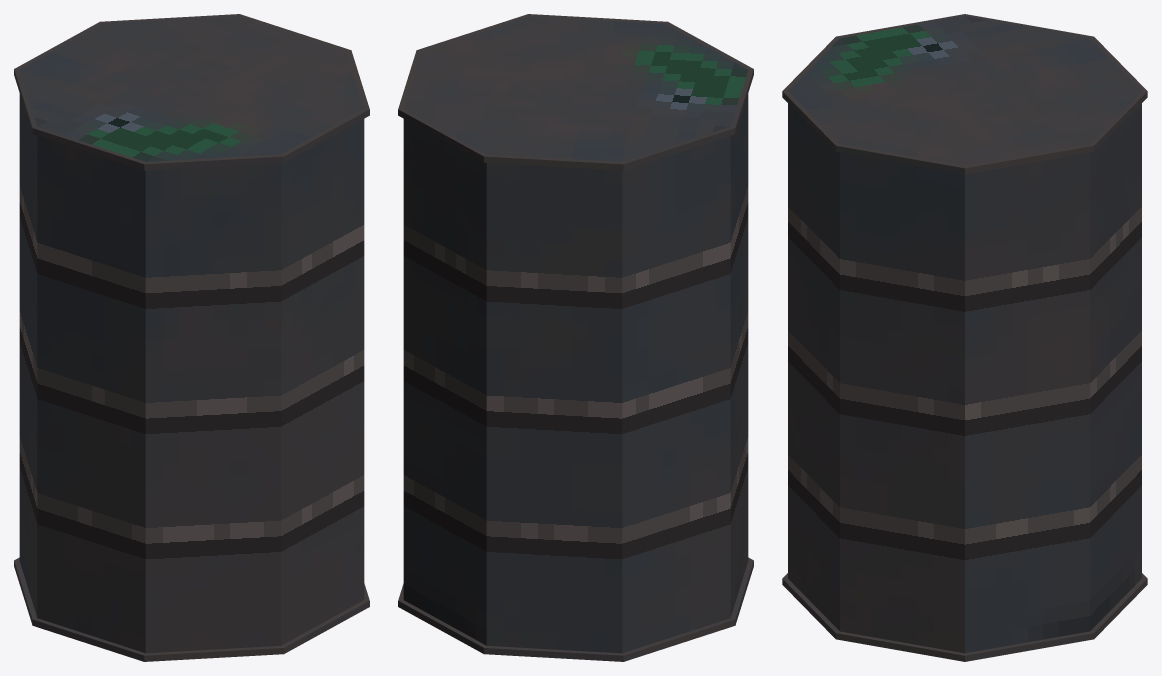
File: grease_drum.glb
3 renders of one model, left to right at view 1: azimuth 30°, elevation 25°; view 2: azimuth 150°, elevation 25°; view 3: azimuth 270°, elevation 25°, orthographic.
Parts seen in each view (by area): view 1: Cylinder; view 2: Cylinder; view 3: Cylinder.
Boxes of the visible parts, x1,y1,x2,y2 form: Cylinder: [14, 14, 369, 661]; Cylinder: [398, 14, 753, 661]; Cylinder: [782, 14, 1147, 661].
Bounding box in the file's own units: 0.4128 × 0.6156 × 0.4128.
Materials: 1 (1 with a texture image).
